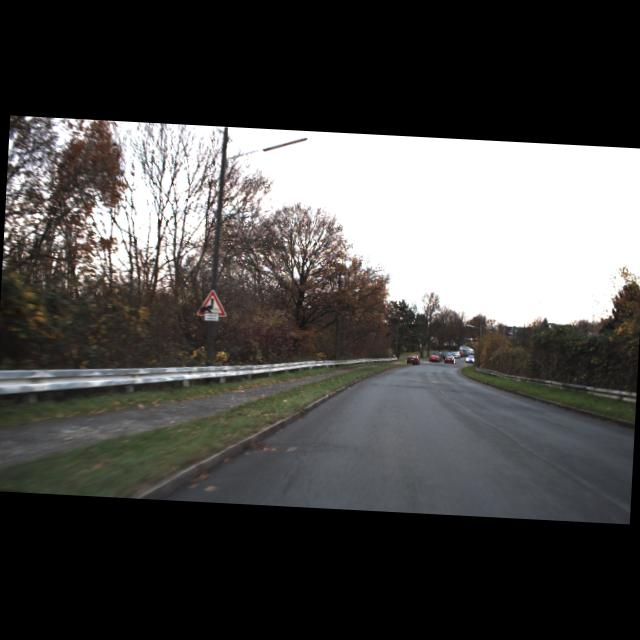danger: (197, 288, 229, 316)
